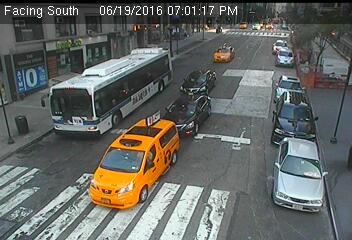neg: (272, 133, 303, 175), (172, 161, 203, 202), (220, 167, 249, 207), (55, 87, 84, 125), (280, 56, 308, 94), (118, 117, 146, 154), (55, 190, 83, 226), (118, 56, 143, 89), (116, 188, 139, 220), (189, 48, 212, 78), (26, 159, 48, 187), (228, 75, 248, 102), (15, 112, 34, 137), (229, 34, 247, 59), (190, 102, 205, 121)
